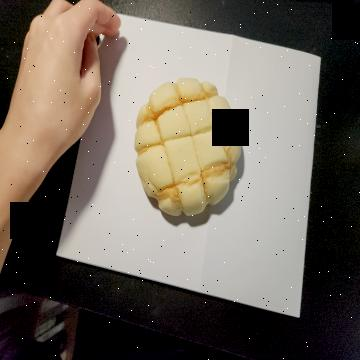melon_bread: (134, 78, 243, 217)
